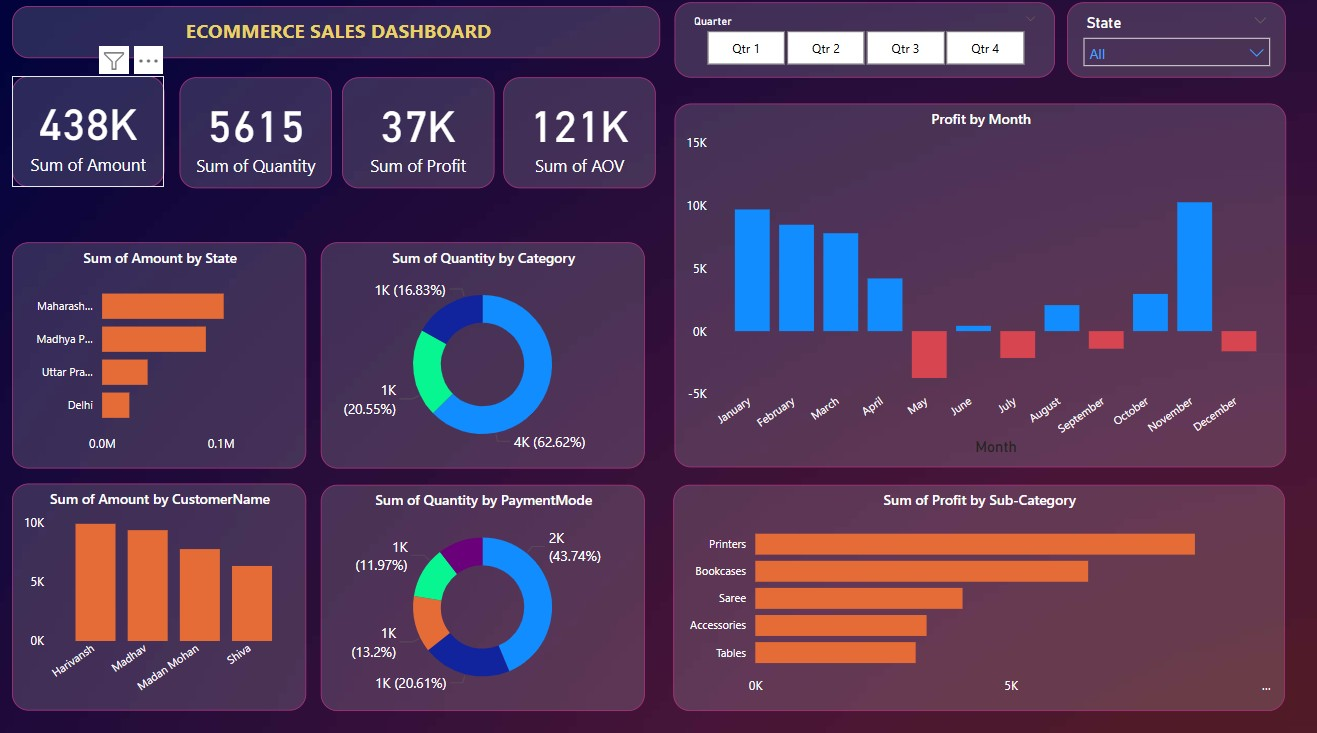

The page's visual inventory and layout, read from the dashboard file:
{"tool":"powerbi","page":{"name":"Page 1","canvas":[1280,720],"ordinal":0},"visuals":[{"type":"textbox","box":[14.3,10,625.7,50],"z":0},{"type":"columnChart","title":" Profit by Month","fields":{"Category":["Orders.Order Date.Variation.Date Hierarchy.Month"],"Y":["Sum(Details.Profit)"]},"box":[654.3,104.3,590,351.4],"z":1000},{"type":"barChart","fields":{"Category":["Details.Sub-Category"],"Y":["Sum(Details.Profit)"]},"box":[652.9,471.4,590,218.6],"z":2000},{"type":"donutChart","fields":{"Y":["Sum(Details.Quantity)"],"Category":["Details.PaymentMode"]},"box":[312.9,471.4,312.9,218.6],"z":3000},{"type":"donutChart","fields":{"Category":["Details.Category"],"Y":["Sum(Details.Quantity)"]},"box":[312.9,237.1,312.9,218.6],"z":4000},{"type":"card","fields":{"Values":["Sum(Details.Amount)"]},"box":[14.3,77.1,147,107],"z":5000},{"type":"card","fields":{"Values":["Sum(Details.Quantity)"]},"box":[175.7,78.6,147.1,107.1],"z":6000},{"type":"card","fields":{"Values":["Sum(Details.Profit)"]},"box":[332.9,78.6,147,107],"z":7000},{"type":"card","fields":{"Values":["Sum(Details.AOV)"]},"box":[488.6,78.6,147,107],"z":8000},{"type":"barChart","fields":{"Category":["Orders.State"],"Y":["Sum(Details.Amount)"]},"box":[14.3,237.1,284.3,218.6],"z":9000},{"type":"columnChart","fields":{"Category":["Orders.CustomerName"],"Y":["Sum(Details.Amount)"]},"box":[14,471,284,219],"z":10000},{"type":"slicer","fields":{"Values":["Orders.Order Date.Variation.Date Hierarchy.Quarter"]},"box":[654.3,5.7,367.1,72.9],"z":11000},{"type":"slicer","fields":{"Values":["Orders.State"]},"box":[1032.9,5.7,211.4,72.9],"z":12000}]}

Visuals, with their boxes in screenshot pixels (x1, y1, x2, y2), scaled from the page's 1280x720 canvas onto the 1317x733 screenshot:
textbox: crop(15, 10, 658, 61)
" Profit by Month" columnChart: crop(673, 106, 1280, 464)
barChart - Details.Sub-Category x Sum(Details.Profit): crop(672, 480, 1279, 702)
donutChart - Sum(Details.Quantity) x Details.PaymentMode: crop(322, 480, 644, 702)
donutChart - Details.Category x Sum(Details.Quantity): crop(322, 241, 644, 464)
card - Sum(Details.Amount): crop(15, 78, 166, 187)
card - Sum(Details.Quantity): crop(181, 80, 332, 189)
card - Sum(Details.Profit): crop(343, 80, 494, 189)
card - Sum(Details.AOV): crop(503, 80, 654, 189)
barChart - Orders.State x Sum(Details.Amount): crop(15, 241, 307, 464)
columnChart - Orders.CustomerName x Sum(Details.Amount): crop(14, 480, 307, 702)
slicer - Orders.Order Date.Variation.Date Hierarchy.Quarter: crop(673, 6, 1051, 80)
slicer - Orders.State: crop(1063, 6, 1280, 80)
